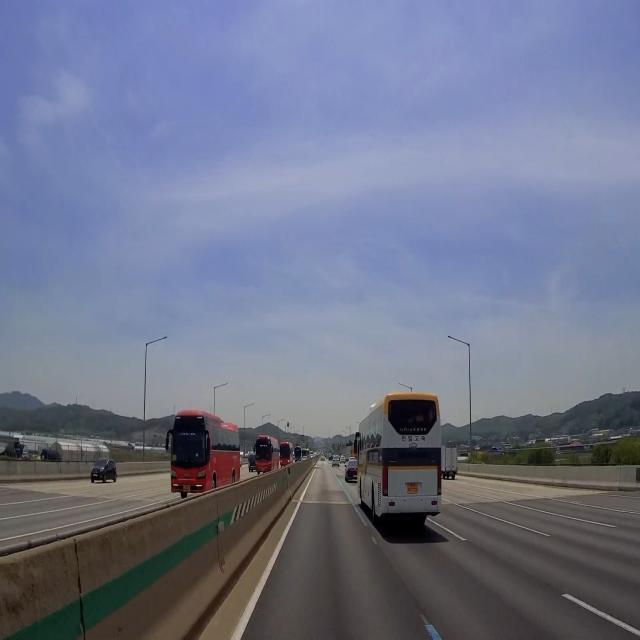car: (405, 480, 421, 496), (180, 483, 193, 496), (90, 472, 100, 483)
